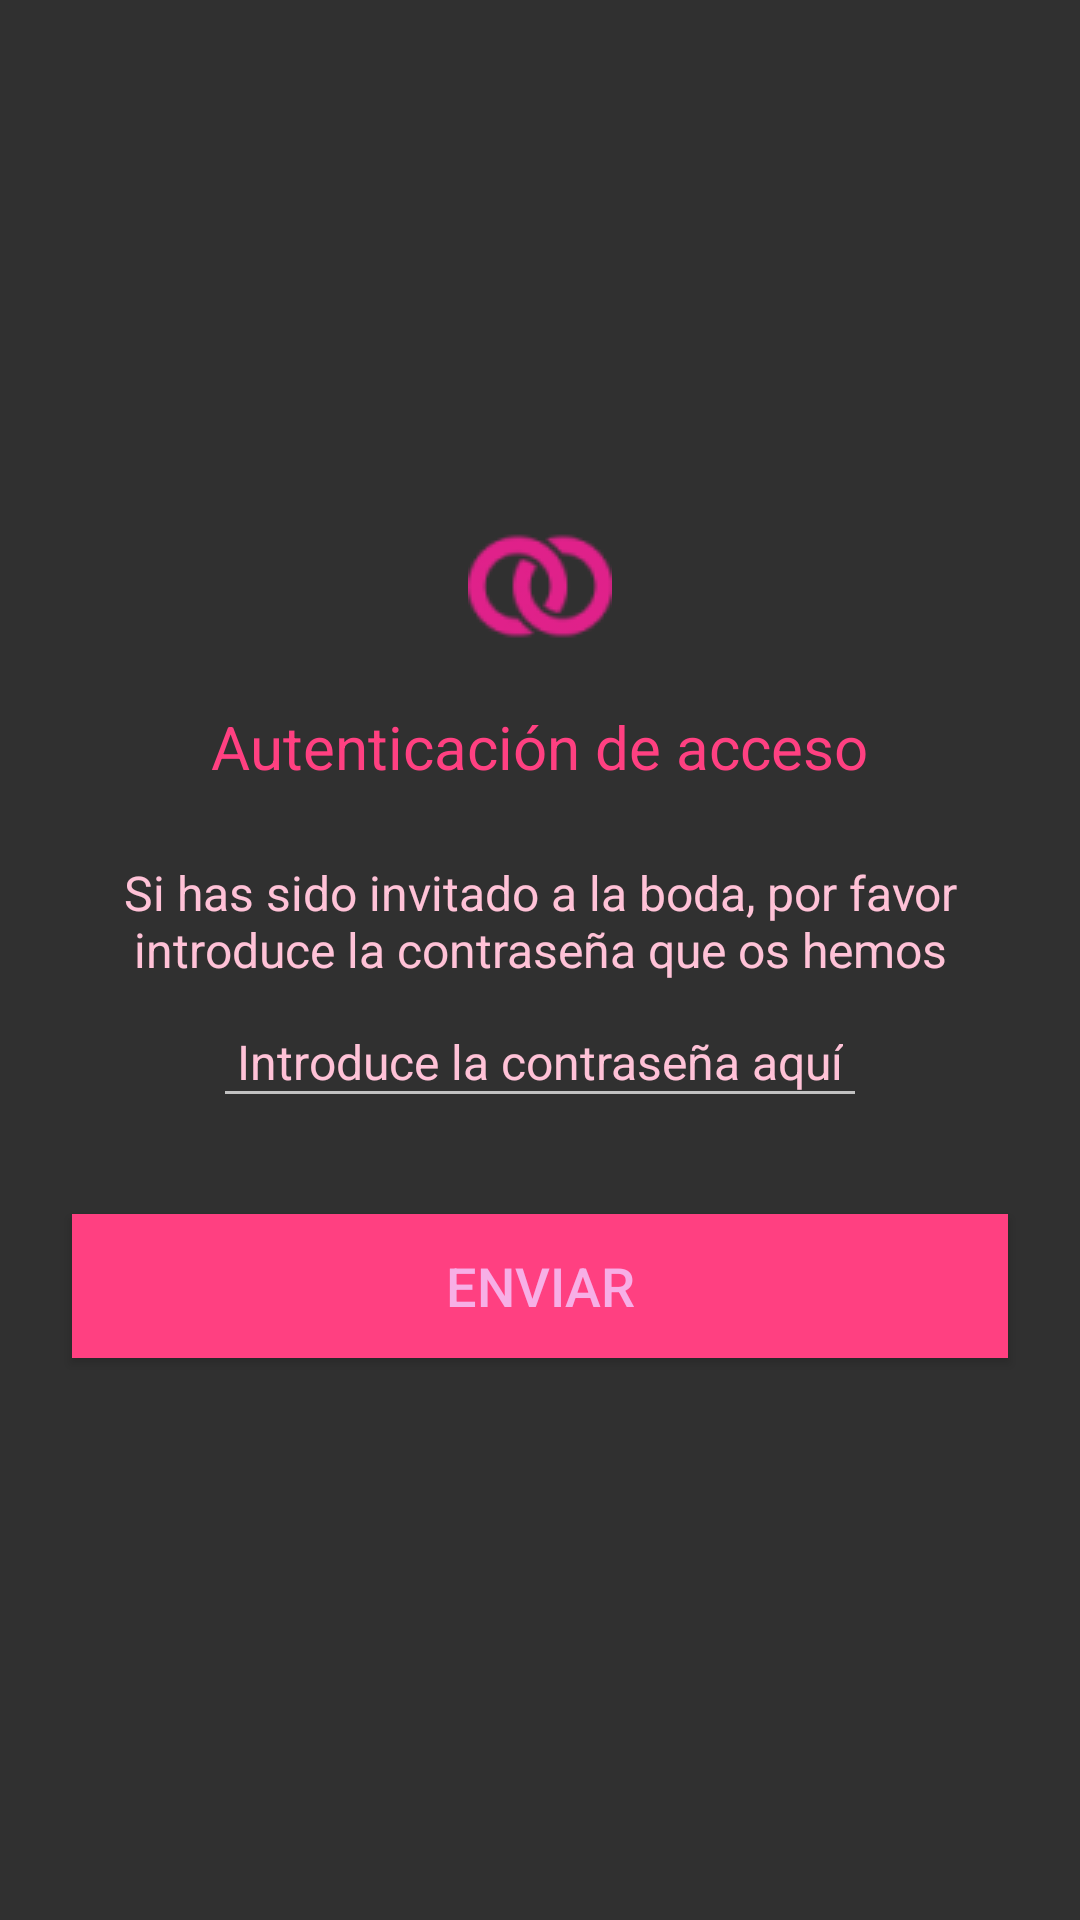

Icons on this 1080w x 1920h Android screen, each with the point to tap as point (x, y):
rings: point (540, 586)
